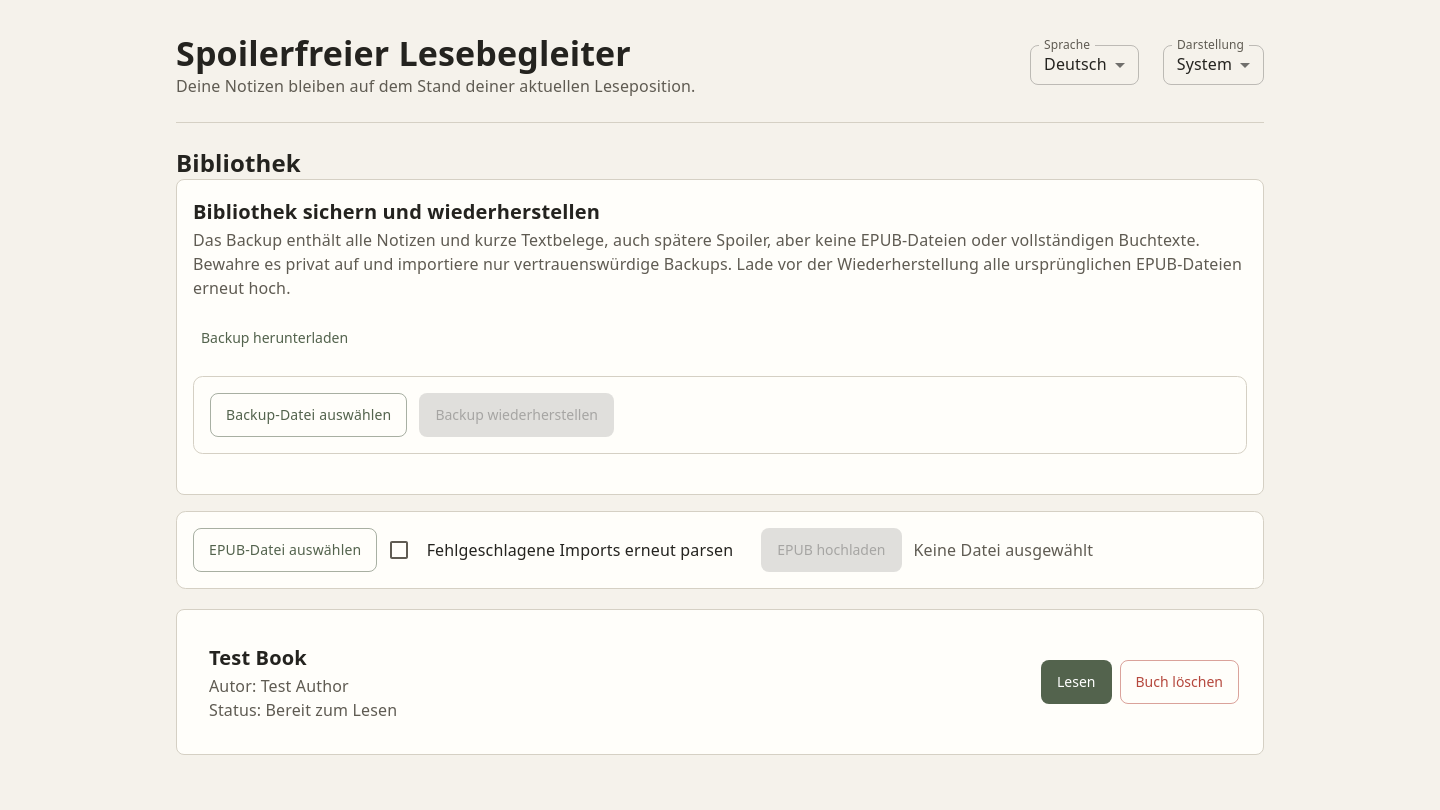
Scenario: App › deletes a book only after confirmation and refreshes the library
Click the button "Buch löschen" at {"x": 1179, "y": 682}, box [1120,660,1239,704]
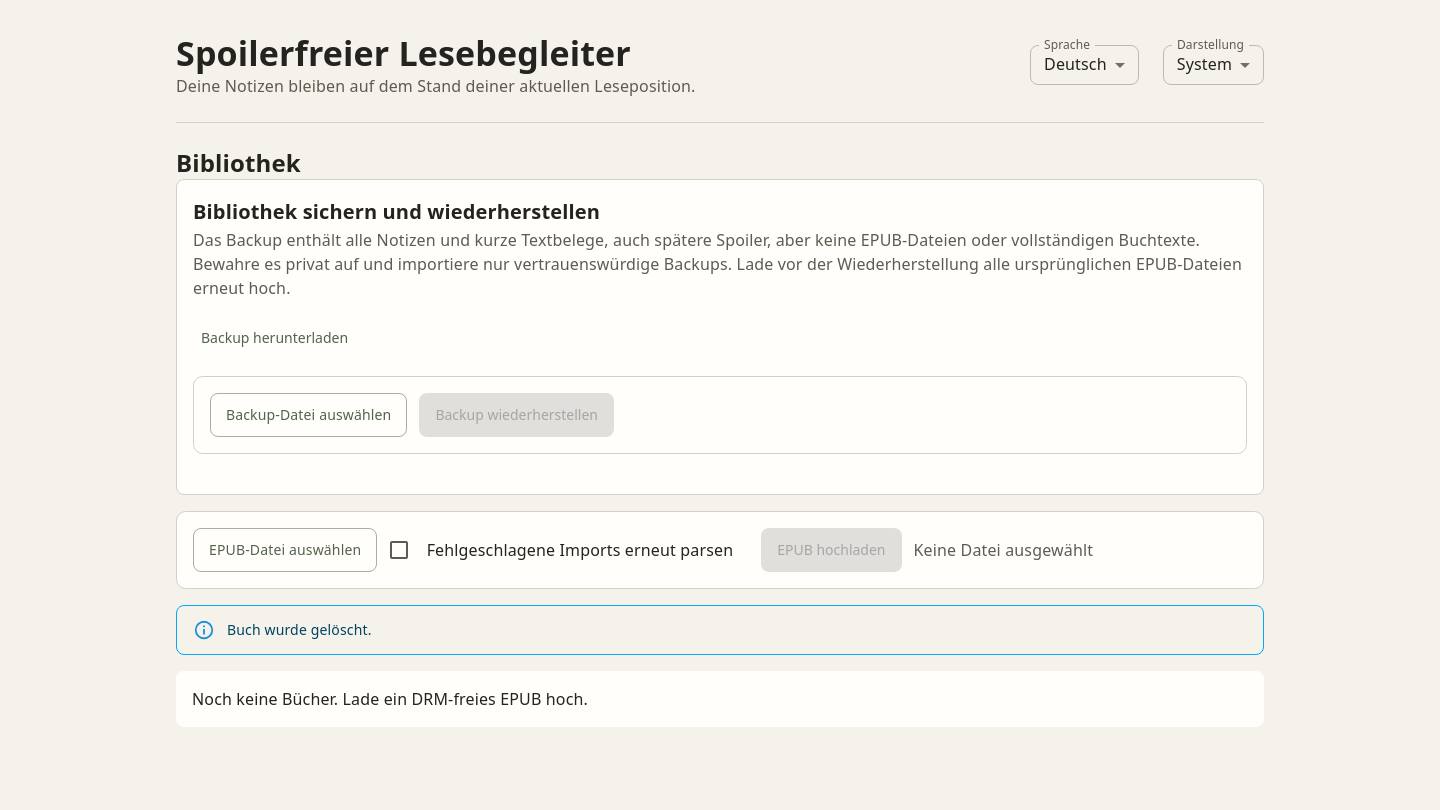
Check: the text "Buch wurde gelöscht." is shown, box [227,620,372,640]
